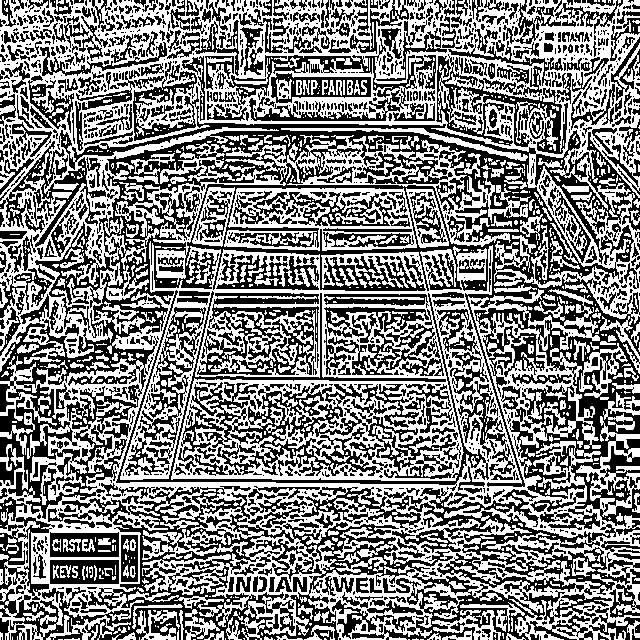left side: (404, 186, 524, 483), (118, 185, 236, 480)
player: (442, 402, 492, 504), (281, 134, 304, 190)
